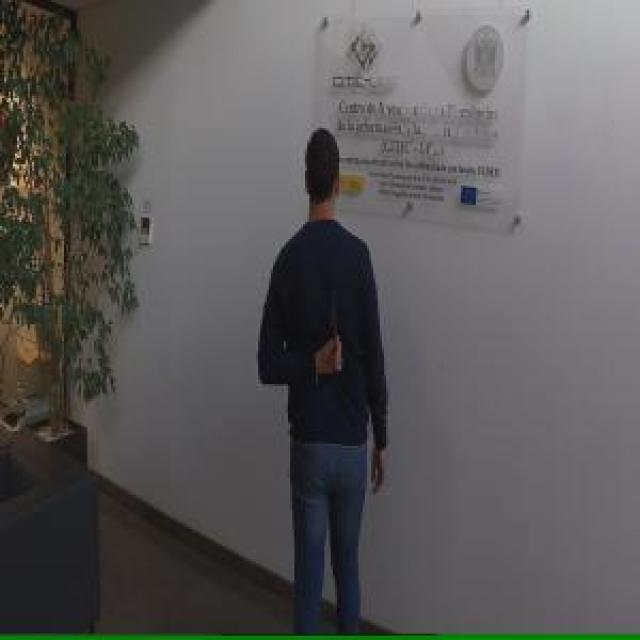knife: (326, 284, 346, 379)
